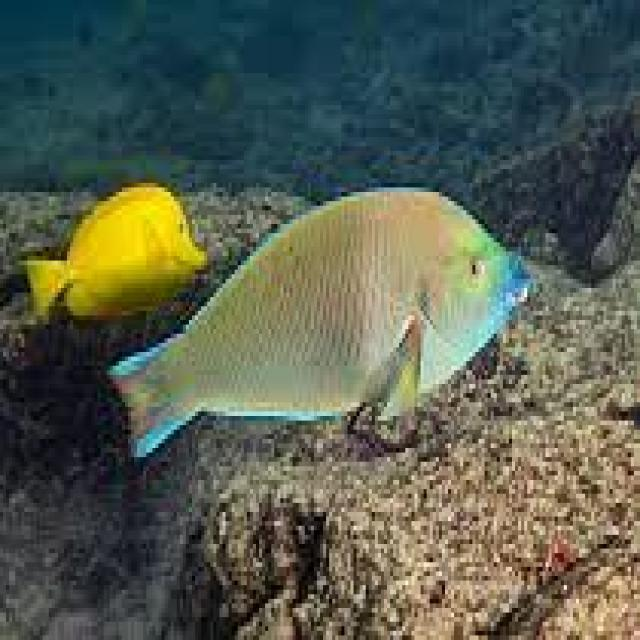YellowTang: (8, 143, 218, 361)
